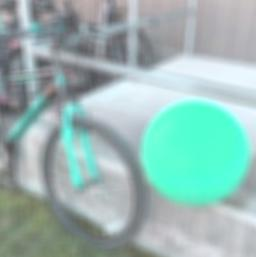algae: (142, 100, 244, 201)
